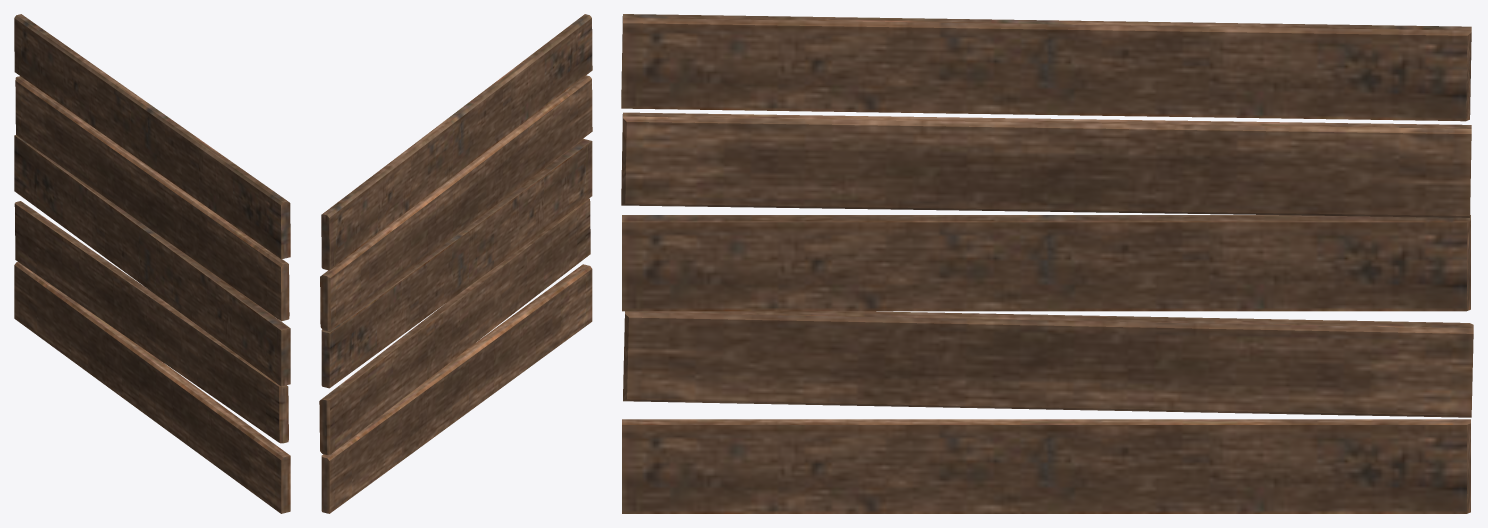
The model's file is Boards.fbx.
3 views of the same model, side by side, from view 1: azimuth 30°, elevation 25°; view 2: azimuth 150°, elevation 25°; view 3: azimuth 270°, elevation 25° (orthographic). The views are drawn at different scales.
Visible parts, largest first — view 1: Boards; view 2: Boards; view 3: Boards.
Part boxes in pixels (x1=…): Boards: x1=14, y1=14, x2=290, y2=513; Boards: x1=319, y1=14, x2=592, y2=513; Boards: x1=621, y1=14, x2=1473, y2=513.
Bounding box in the file's own units: 4.34 × 137 × 215.
